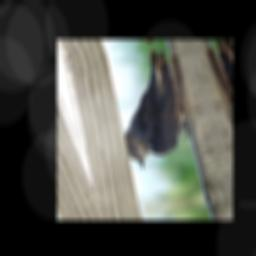Swallow: (100, 45, 206, 171)
